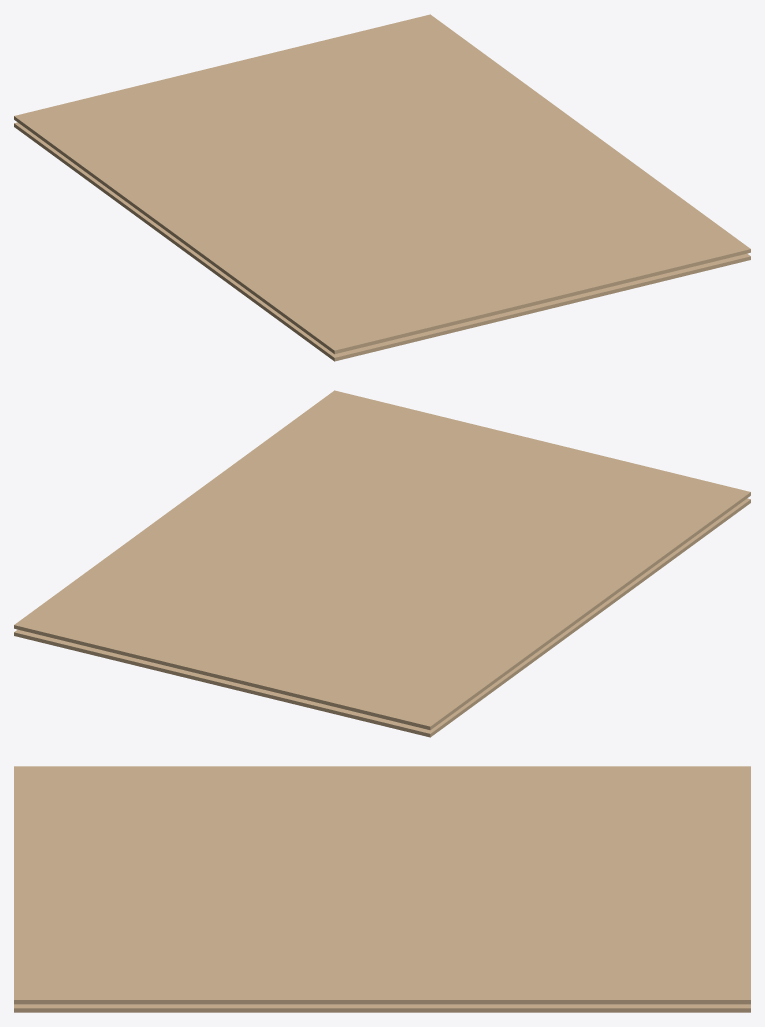
The model's file is folder_reference.glb.
3 views of the same model, one above another, from view 1: azimuth 30°, elevation 25°; view 2: azimuth 150°, elevation 25°; view 3: azimuth 270°, elevation 25° (orthographic). The views are drawn at different scales.
Parts seen in each view (by area): view 1: FOLDER_Cover, FOLDER_Back; view 2: FOLDER_Cover, FOLDER_Back; view 3: FOLDER_Cover, FOLDER_Back.
Boxes of the visible parts, box(x1,y1,x2,y2) form: FOLDER_Cover: box(14, 14, 750, 354); FOLDER_Back: box(14, 122, 750, 361); FOLDER_Cover: box(14, 390, 750, 730); FOLDER_Back: box(14, 498, 750, 737); FOLDER_Cover: box(14, 766, 750, 1004); FOLDER_Back: box(14, 1004, 750, 1012).
Size of the model in its own units: 0.24 by 0.006 by 0.32.
